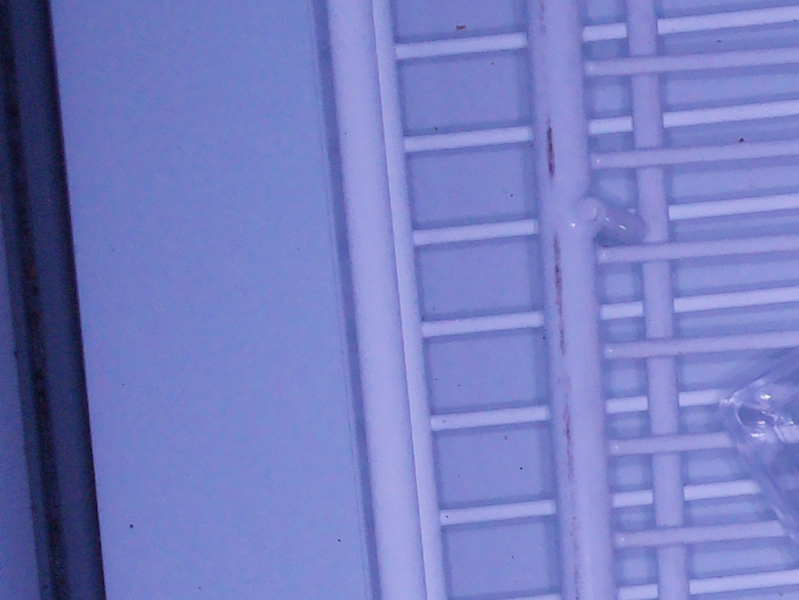plate: (718, 344, 799, 565)
